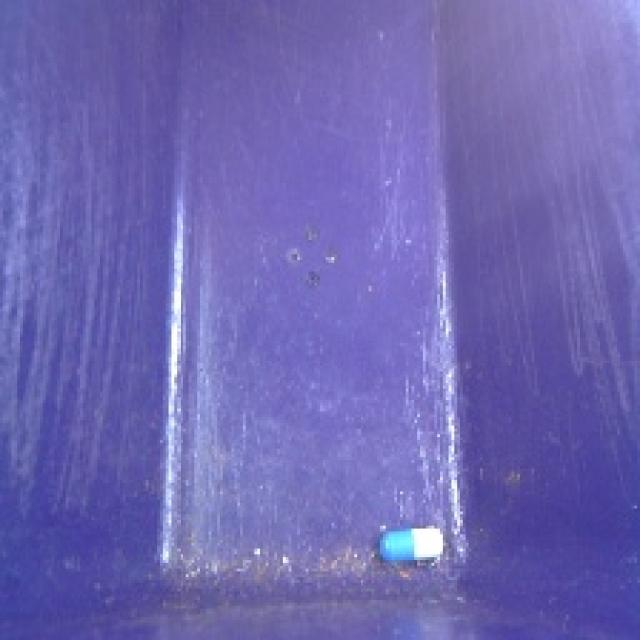small: (372, 522, 450, 570)
